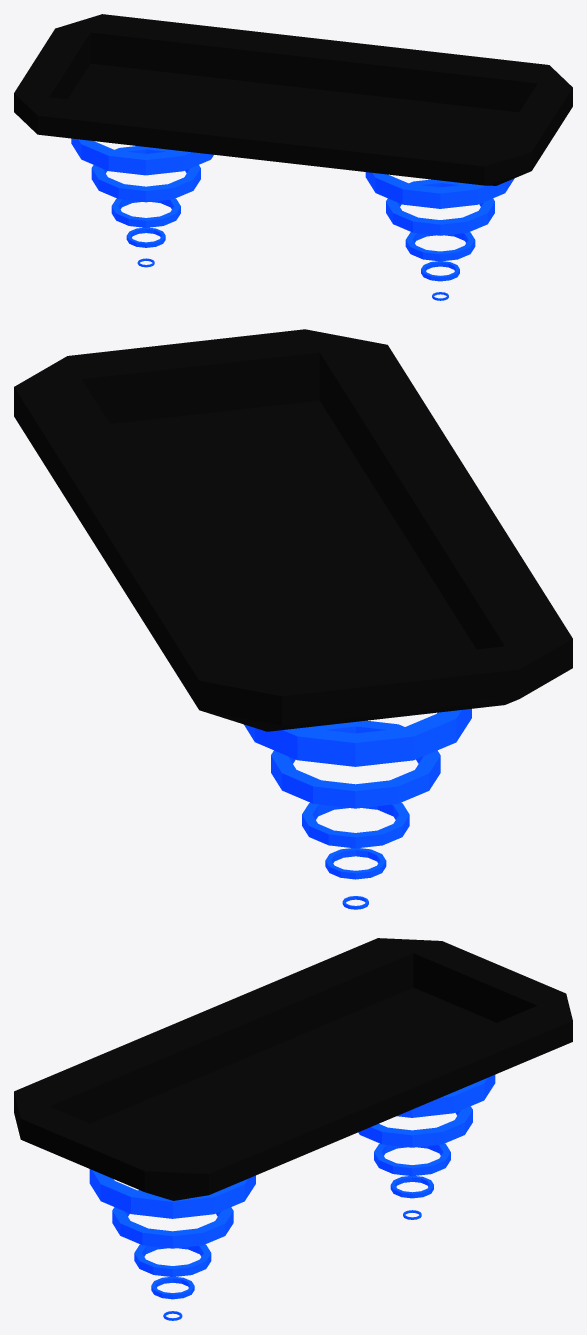
Rendered from Floating table.glb.
The picture shows the model from 3 angles, top to bottom: view 1: azimuth 30°, elevation 25°; view 2: azimuth 150°, elevation 25°; view 3: azimuth 270°, elevation 25°; orthographic projection. The views are drawn at different scales.
Visible parts, largest first — view 1: Floating table; view 2: Floating table; view 3: Floating table.
Boxes of the visible parts, x1,y1,x2,y2 form: Floating table: [14, 14, 572, 300]; Floating table: [14, 329, 572, 909]; Floating table: [14, 938, 572, 1320].
Size of the model in its own units: 1.02 by 0.4263 by 1.03.
